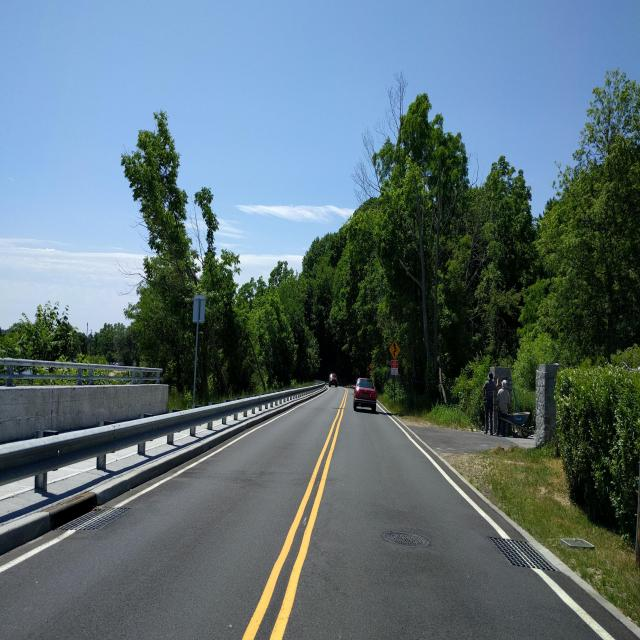Good: (380, 528, 430, 552)
